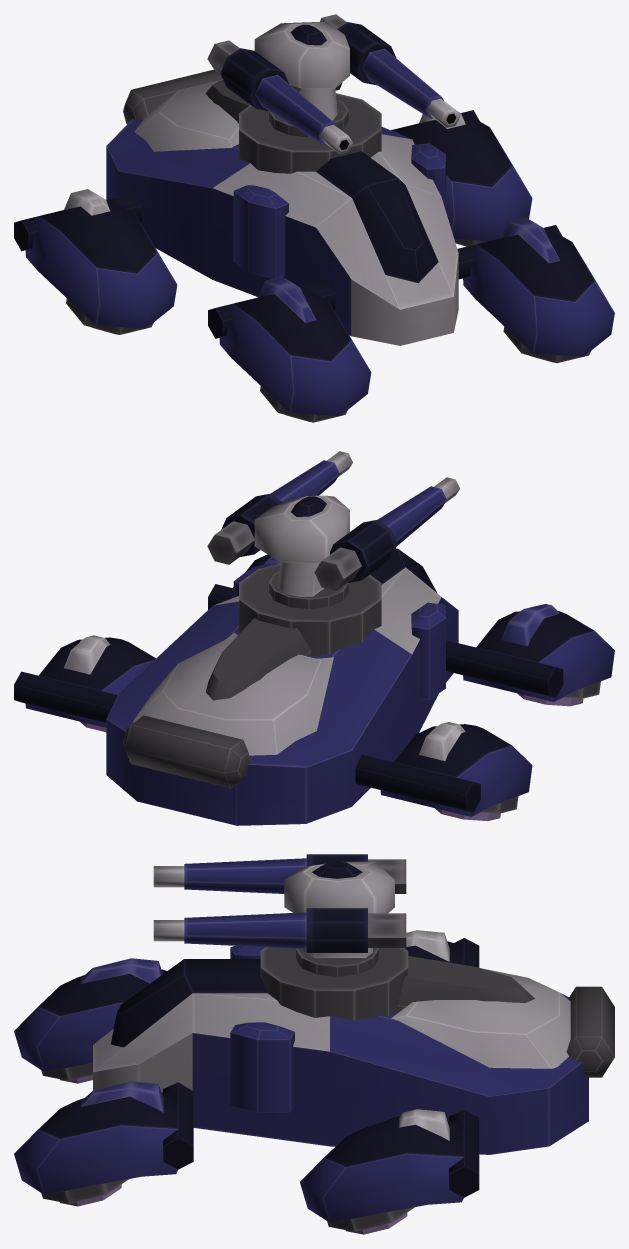
Rendered from unit_Grav_Light_Atreus_B.FBX.
3 renders of one model, top to bottom at view 1: azimuth 30°, elevation 25°; view 2: azimuth 150°, elevation 25°; view 3: azimuth 270°, elevation 25°, orthographic. The views are drawn at different scales.
Parts seen in each view (by area): view 1: struct_Tank_Special_Atreus_B_Body, struct_Tank_Special_Atreus_B_Gun, struct_Tank_Special_Atreus_B_RR, struct_Tank_Special_Atreus_B_FR, struct_Tank_Special_Atreus_B_FL, struct_Tank_Special_Atreus_B_RL, struct_Tank_Special_Atreus_A_Turret; view 2: struct_Tank_Special_Atreus_B_Body, struct_Tank_Special_Atreus_B_Gun, struct_Tank_Special_Atreus_B_RR, struct_Tank_Special_Atreus_B_FR, struct_Tank_Special_Atreus_B_RL, struct_Tank_Special_Atreus_A_Turret, struct_Tank_Special_Atreus_B_FL; view 3: struct_Tank_Special_Atreus_B_Body, struct_Tank_Special_Atreus_B_Gun, struct_Tank_Special_Atreus_B_FL, struct_Tank_Special_Atreus_B_RL, struct_Tank_Special_Atreus_B_FR, struct_Tank_Special_Atreus_B_RR, struct_Tank_Special_Atreus_A_Turret.
Boxes of the visible parts, x1=… form: struct_Tank_Special_Atreus_B_Body: x1=106, y1=69, x2=458, y2=345; struct_Tank_Special_Atreus_B_Gun: x1=207, y1=14, x2=460, y2=153; struct_Tank_Special_Atreus_B_RR: x1=14, y1=189, x2=177, y2=334; struct_Tank_Special_Atreus_B_FR: x1=208, y1=276, x2=371, y2=422; struct_Tank_Special_Atreus_B_FL: x1=457, y1=217, x2=614, y2=363; struct_Tank_Special_Atreus_B_RL: x1=391, y1=110, x2=532, y2=246; struct_Tank_Special_Atreus_A_Turret: x1=269, y1=88, x2=348, y2=137; struct_Tank_Special_Atreus_B_Body: x1=106, y1=548, x2=458, y2=825; struct_Tank_Special_Atreus_B_Gun: x1=207, y1=451, x2=459, y2=590; struct_Tank_Special_Atreus_B_RR: x1=355, y1=722, x2=532, y2=821; struct_Tank_Special_Atreus_B_FR: x1=446, y1=604, x2=614, y2=706; struct_Tank_Special_Atreus_B_RL: x1=14, y1=635, x2=155, y2=732; struct_Tank_Special_Atreus_A_Turret: x1=269, y1=562, x2=348, y2=608; struct_Tank_Special_Atreus_B_FL: x1=208, y1=554, x2=280, y2=609; struct_Tank_Special_Atreus_B_Body: x1=93, y1=946, x2=614, y2=1154; struct_Tank_Special_Atreus_B_Gun: x1=153, y1=854, x2=406, y2=952; struct_Tank_Special_Atreus_B_FL: x1=14, y1=1081, x2=193, y2=1206; struct_Tank_Special_Atreus_B_RL: x1=300, y1=1109, x2=479, y2=1234; struct_Tank_Special_Atreus_B_FR: x1=14, y1=958, x2=166, y2=1083; struct_Tank_Special_Atreus_B_RR: x1=404, y1=930, x2=479, y2=967; struct_Tank_Special_Atreus_A_Turret: x1=296, y1=948, x2=378, y2=976.
Bounding box in the file's own units: 408 × 225 × 452.
